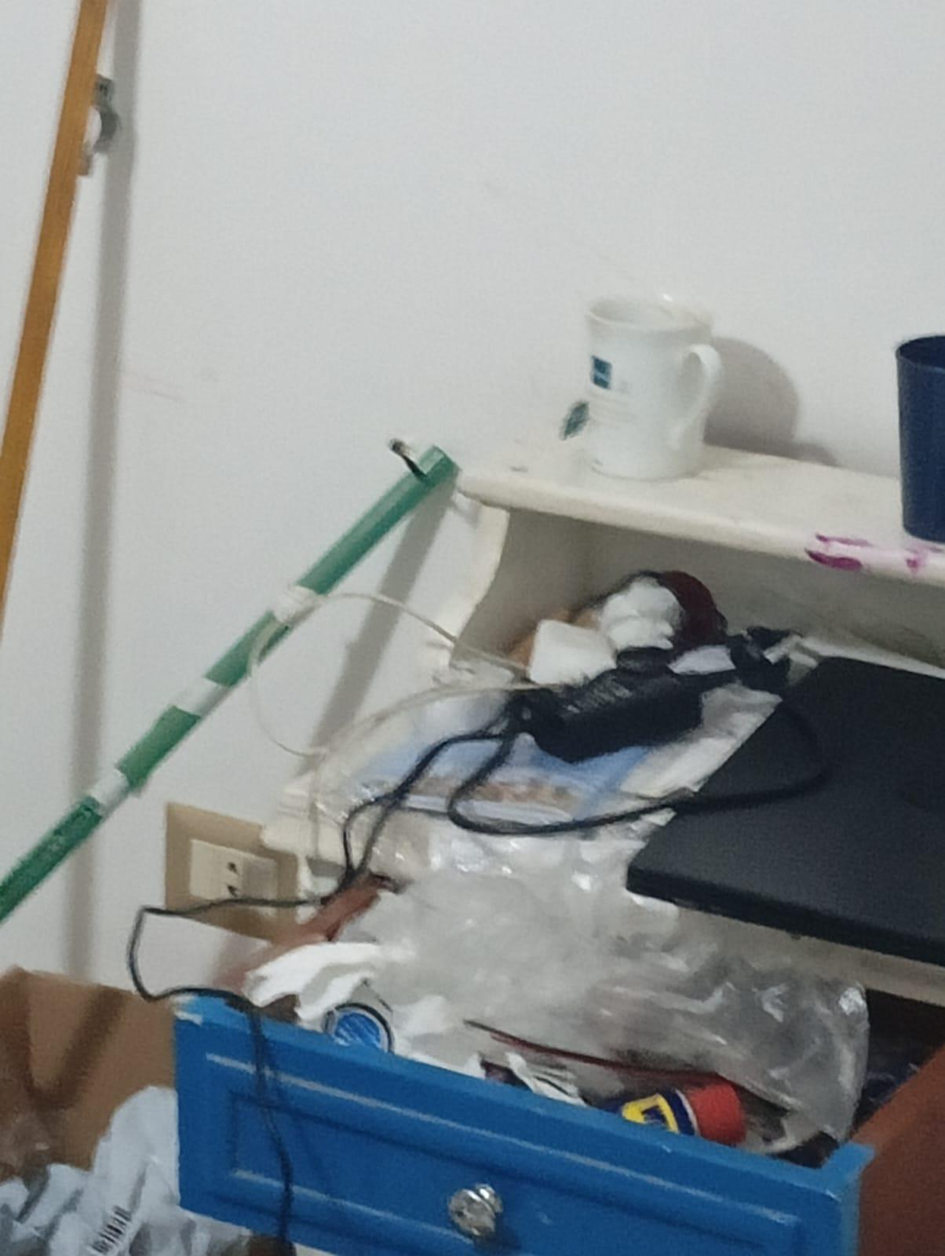cup: (586, 296, 721, 479), (896, 335, 944, 541)
